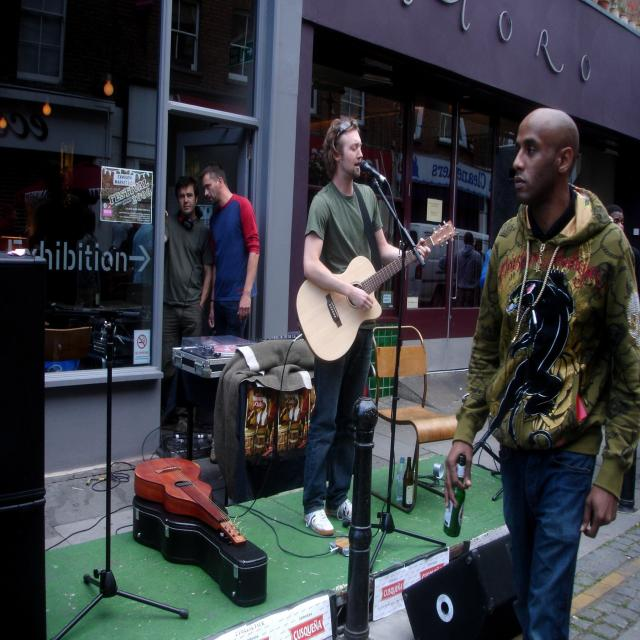guitar: (294, 222, 462, 361), (133, 456, 248, 546)
